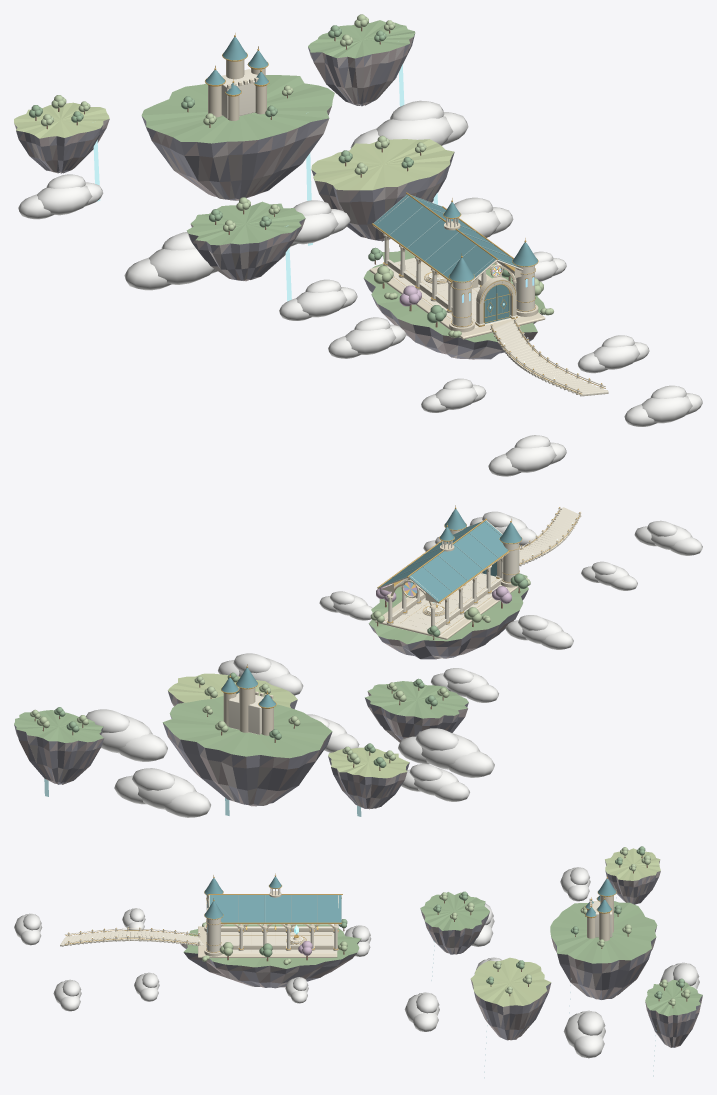
File: sanctuary.glb
The picture shows the model from 3 angles, top to bottom: view 1: azimuth 30°, elevation 25°; view 2: azimuth 150°, elevation 25°; view 3: azimuth 270°, elevation 25°; orthographic projection. The views are drawn at different scales.
Parts seen in each view (by area): view 1: CloudBanks, Environment_IslandStone, Environment_MeadowSage, Environment_CarvedCream, Environment_SageBlueRoof, Environment_MeadowSunlit, Environment_SanctuaryIvory, Environment_TreeMint, Environment_WarmGold, Environment_TreeSage, Environment_WaterfallBlue; view 2: CloudBanks, Environment_IslandStone, Environment_MeadowSage, Environment_CarvedCream, Environment_SageBlueRoof, Environment_SanctuaryIvory, Environment_MeadowSunlit, Environment_TreeMint, Environment_WarmGold, Environment_TreeSage; view 3: Environment_IslandStone, Environment_MeadowSage, CloudBanks, Environment_CarvedCream, Environment_SageBlueRoof, Environment_MeadowSunlit, Environment_SanctuaryIvory, Environment_TreeMint, Environment_WarmGold, Environment_TreeSage.
Boxes of the visible parts, bbox=[...] form: CloudBanks: bbox=[18, 100, 702, 476]; Environment_IslandStone: bbox=[14, 34, 542, 359]; Environment_MeadowSage: bbox=[141, 20, 545, 342]; Environment_CarvedCream: bbox=[221, 69, 608, 396]; Environment_SageBlueRoof: bbox=[205, 37, 537, 282]; Environment_MeadowSunlit: bbox=[14, 102, 454, 190]; Environment_SanctuaryIvory: bbox=[208, 60, 605, 394]; Environment_TreeMint: bbox=[41, 14, 553, 337]; Environment_WarmGold: bbox=[205, 33, 605, 394]; Environment_TreeSage: bbox=[29, 25, 514, 322]; Environment_WaterfallBlue: bbox=[93, 64, 437, 301]; CloudBanks: bbox=[86, 511, 702, 817]; Environment_IslandStone: bbox=[14, 590, 528, 809]; Environment_MeadowSage: bbox=[14, 573, 528, 758]; Environment_CarvedCream: bbox=[228, 507, 580, 734]; Environment_SageBlueRoof: bbox=[221, 509, 521, 707]; Environment_SanctuaryIvory: bbox=[223, 507, 581, 735]; Environment_MeadowSunlit: bbox=[168, 673, 409, 778]; Environment_TreeMint: bbox=[30, 578, 530, 764]; Environment_WarmGold: bbox=[221, 505, 580, 708]; Environment_TreeSage: bbox=[54, 573, 528, 767]; Environment_IslandStone: bbox=[181, 860, 702, 1047]; Environment_MeadowSage: bbox=[183, 892, 702, 1016]; CloudBanks: bbox=[14, 867, 699, 1058]; Environment_CarvedCream: bbox=[60, 888, 612, 953]; Environment_SageBlueRoof: bbox=[204, 876, 616, 922]; Environment_MeadowSunlit: bbox=[470, 848, 660, 1006]; Environment_SanctuaryIvory: bbox=[65, 891, 613, 957]; Environment_TreeMint: bbox=[202, 847, 690, 1005]; Environment_WarmGold: bbox=[65, 873, 616, 952]; Environment_TreeSage: bbox=[259, 846, 684, 998].
Bounding box in the file's own units: 149 × 66.92 × 262.
